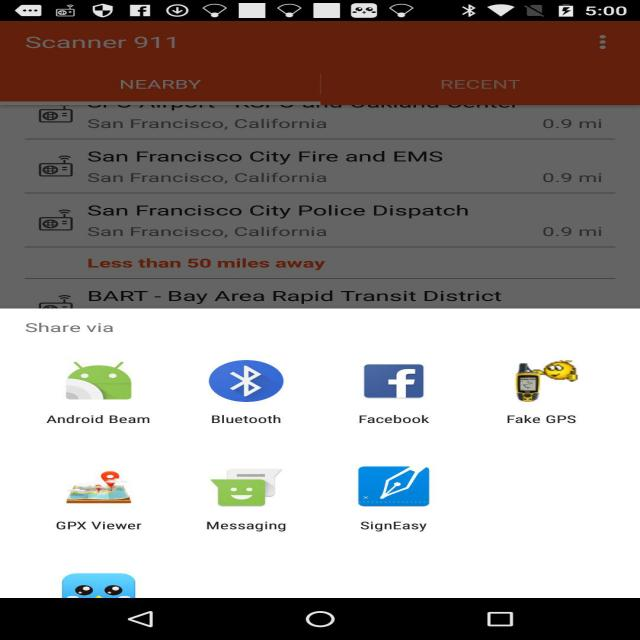icon: (38, 354, 640, 604)
